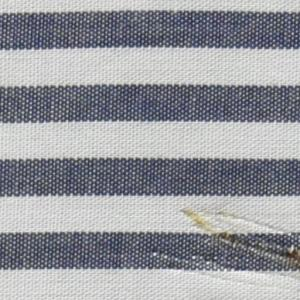Damage: (142, 203, 300, 298)
Oil Stain: (178, 207, 300, 273)
